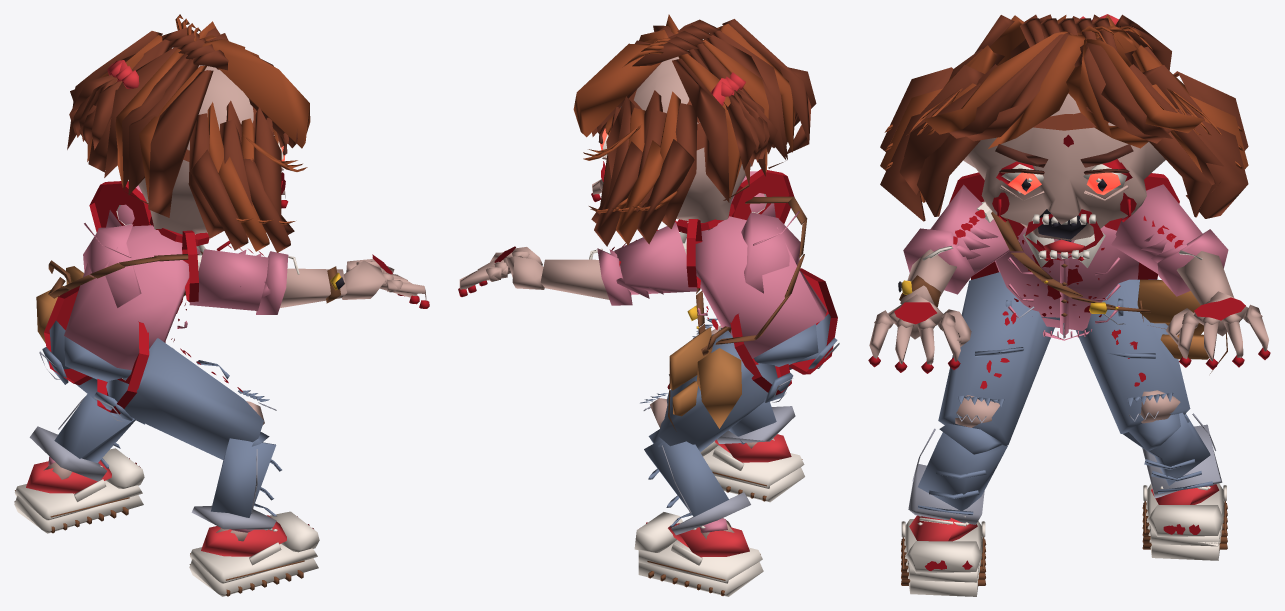
3 renders of one model, left to right at view 1: azimuth 30°, elevation 25°; view 2: azimuth 150°, elevation 25°; view 3: azimuth 270°, elevation 25°, orthographic. The views are drawn at different scales.
Visible parts, largest first — view 1: head, torso, legR, footR, footL, armR, shinR, shinL, hip, handR, foreArmR, stump_armL (+4 smaller); view 2: head, torso, footL, hip, armL, legL, shinL, footR, handL, foreArmL, shinR, stump_armR (+4 smaller); view 3: head, legR, legL, torso, shinR, footR, armL, footL, armR, shinL, handR, handL (+5 smaller).
Boxes of the visible parts, x1,y1,x2,y2 form: head: (67,14,310,252); torso: (48,223,205,370); legR: (94,338,276,460); footR: (189,511,319,596); footL: (14,448,144,533); armR: (189,243,299,314); shinR: (191,432,281,529); shinL: (29,394,144,481); hip: (36,260,174,381); handR: (342,254,429,308); foreArmR: (280,266,346,307); stump_armL: (89,181,151,232); head: (573,14,816,246); torso: (679,196,827,358); footL: (634,512,763,596); hip: (668,324,818,431); armL: (589,222,697,305); legL: (640,330,793,452); shinL: (644,429,750,535); footR: (700,434,804,502); handL: (458,246,544,296); foreArmL: (540,259,609,299); shinR: (717,401,795,444); stump_armR: (731,169,794,224); head: (880,14,1248,260); legR: (938,272,1054,445); legL: (1075,279,1190,433); torso: (991,211,1150,340); shinR: (908,423,1007,524); footR: (901,515,986,596); armL: (1111,184,1228,296); footL: (1142,483,1227,560); armR: (903,184,1019,294); shinL: (1123,412,1222,498); handR: (868,294,971,373); handL: (1166,291,1270,369).
Size of the model in its own units: 1.08 by 1.8 by 1.19.
